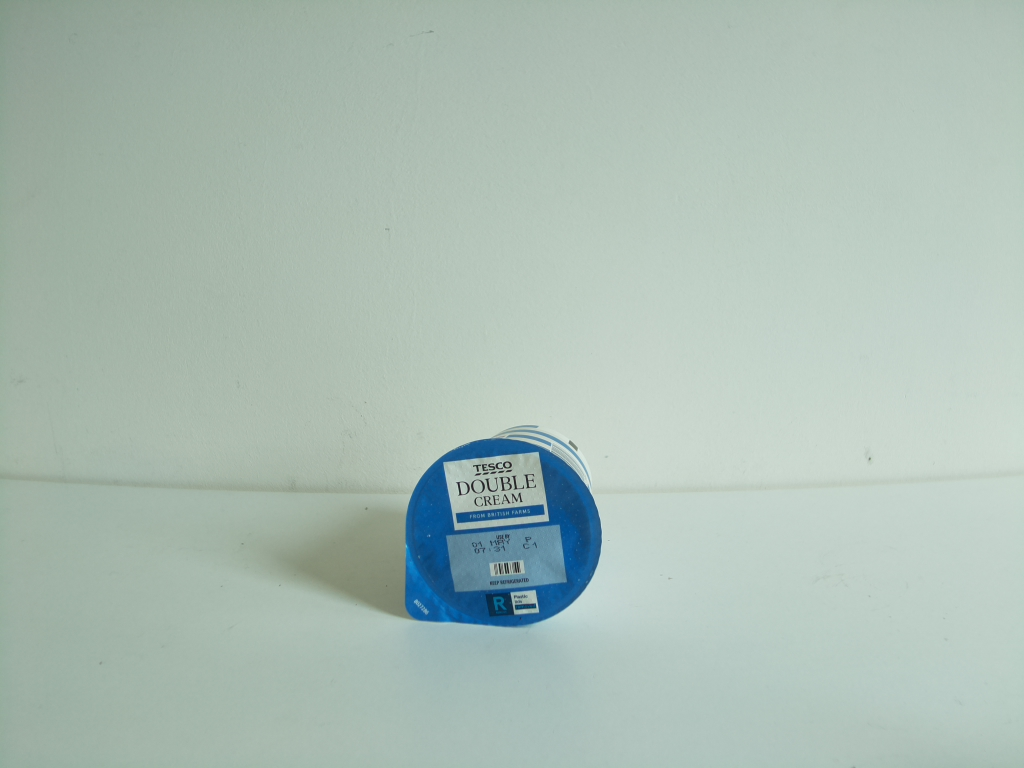cream: (403, 421, 608, 631)
